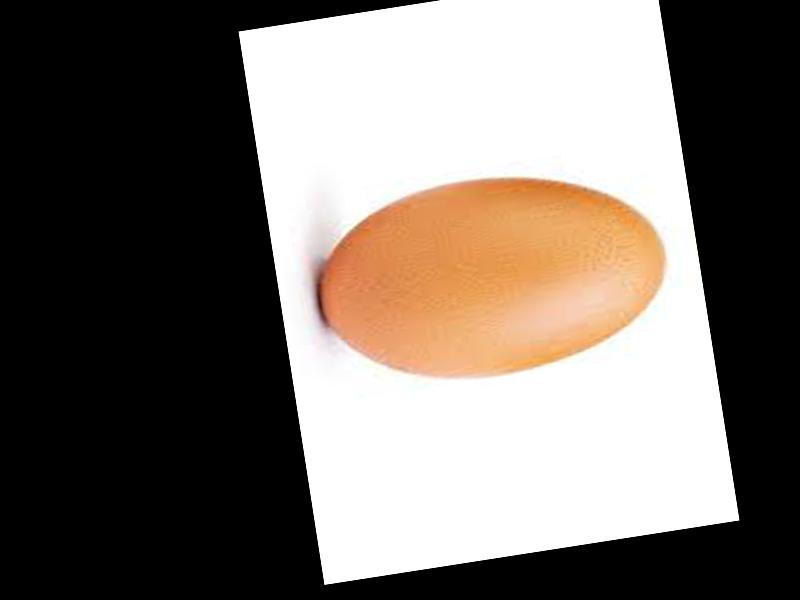Eggs: (306, 154, 678, 397)
